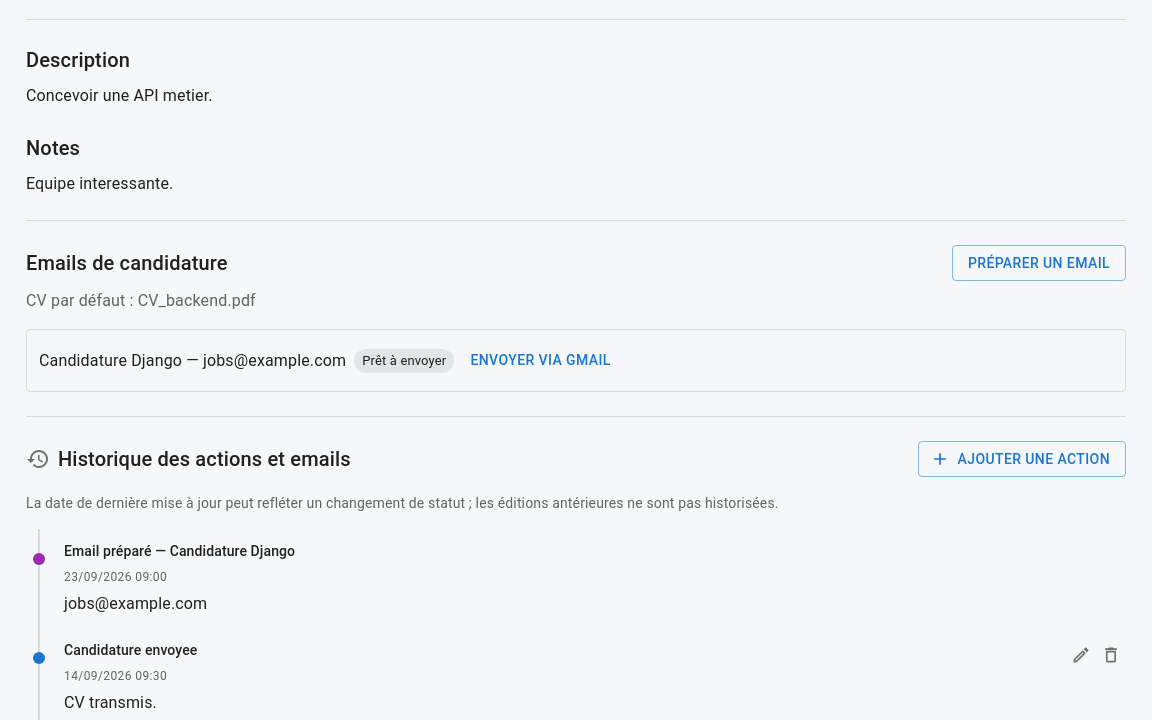
Scenario: a lost send response reloads sending and never offers a second immediate send
(page scrolled)
Click the button with aria-label "Envoyer l’email Candidature Django": {"x": 541, "y": 361} [462,342,619,379]
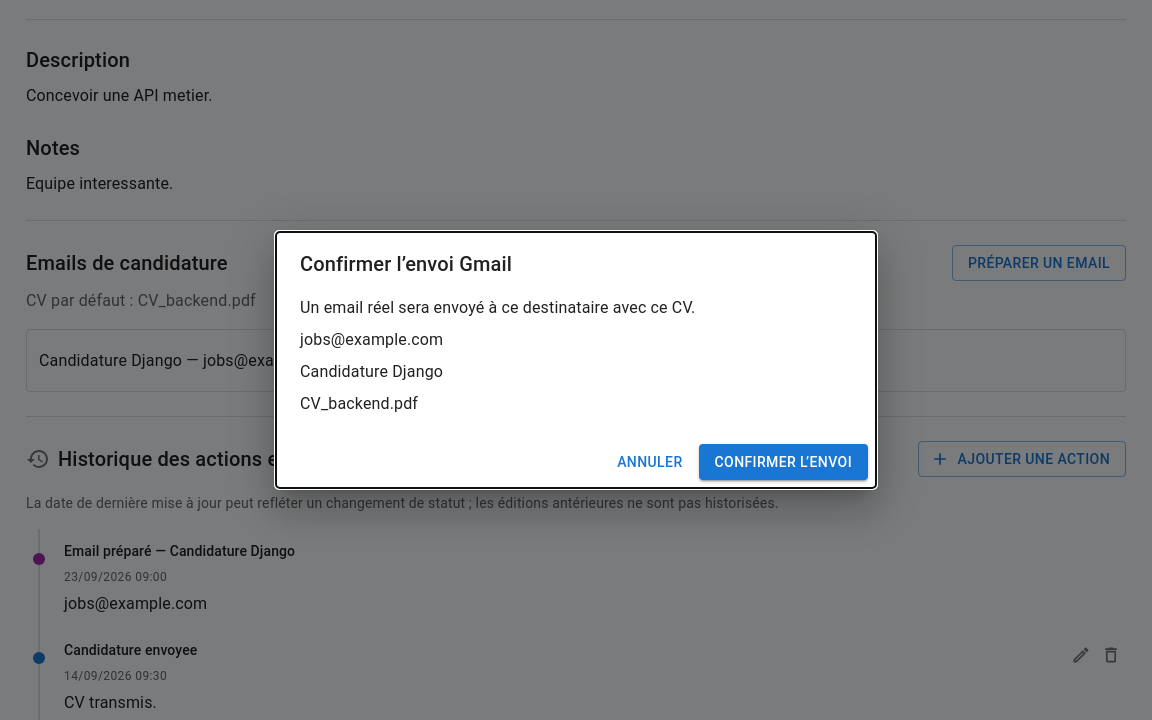
Click the button "Confirmer l’envoi": {"x": 783, "y": 462} [698,444,868,480]
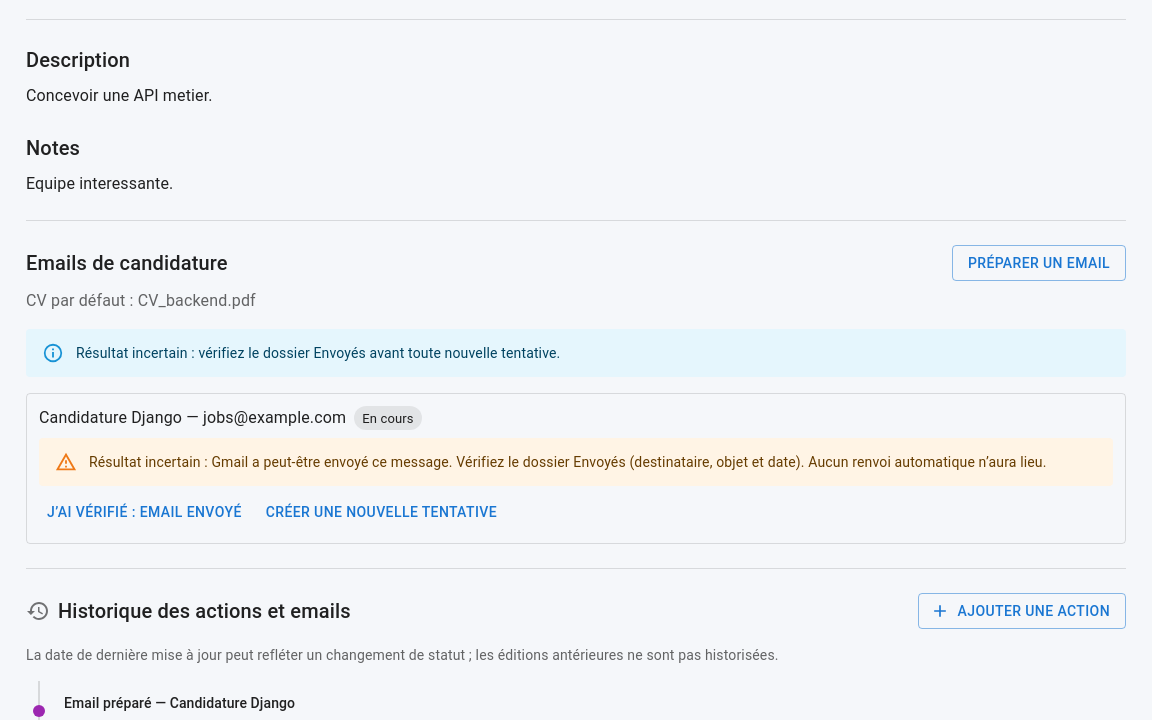
Expected: the text "Résultat incertain : Gmail a peut-être envoyé ce message" is shown, [89,454,1047,470]
